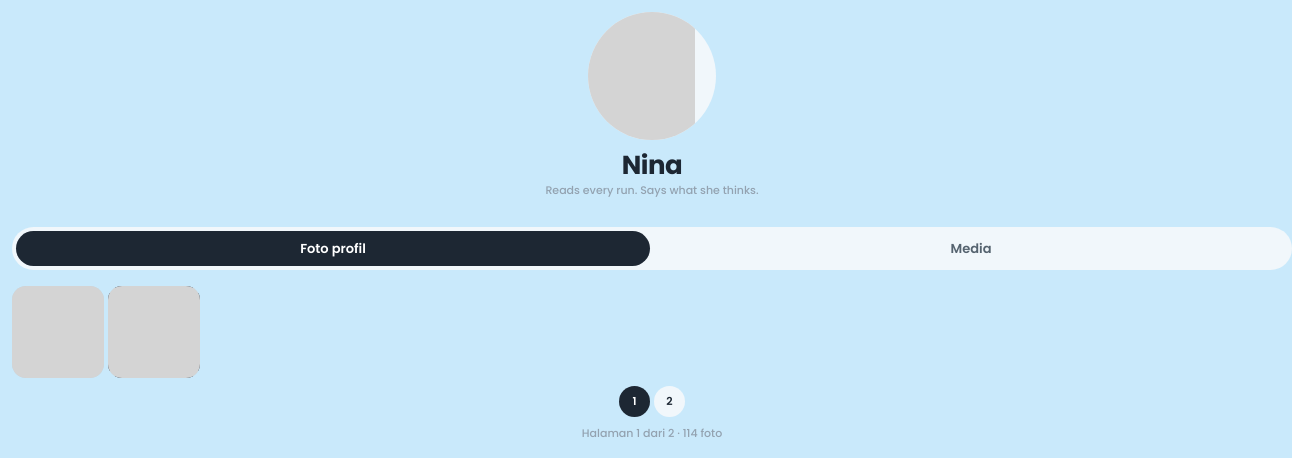
NinaAboutScreen — pagination › tapping a number fetches that page from the server and renders it — no navigation
Click the button "2": {"x": 669, "y": 401} x1=654 y1=386 x2=685 y2=417
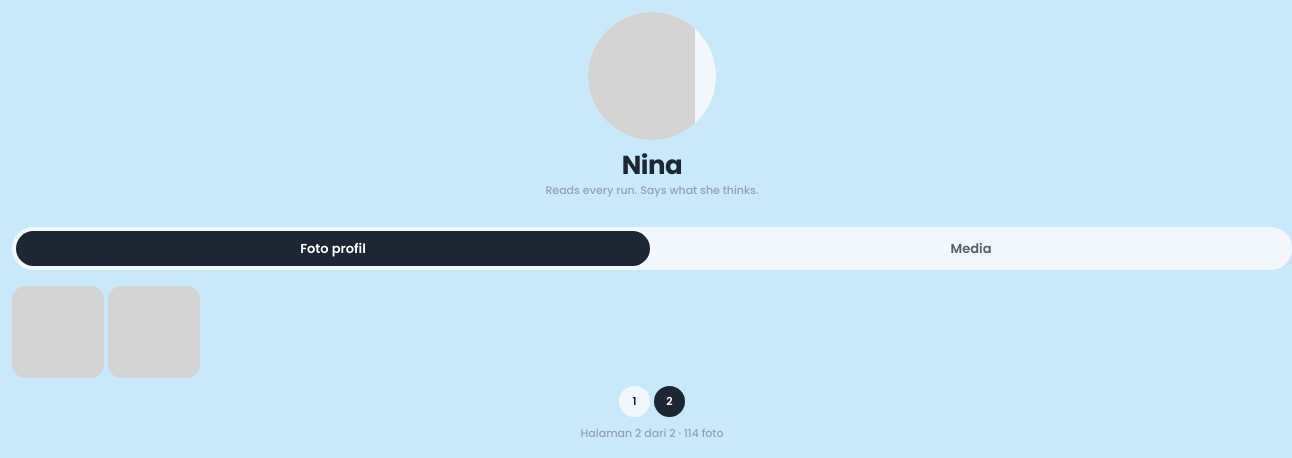
Expected: the button "1" is enabled, x1=619 y1=386 x2=650 y2=417
Expected: the text "Halaman 2 dari 2 · 114 foto" is shown, x1=581 y1=425 x2=723 y2=441
Expected: the text "2" is shown, x1=654 y1=386 x2=685 y2=417
